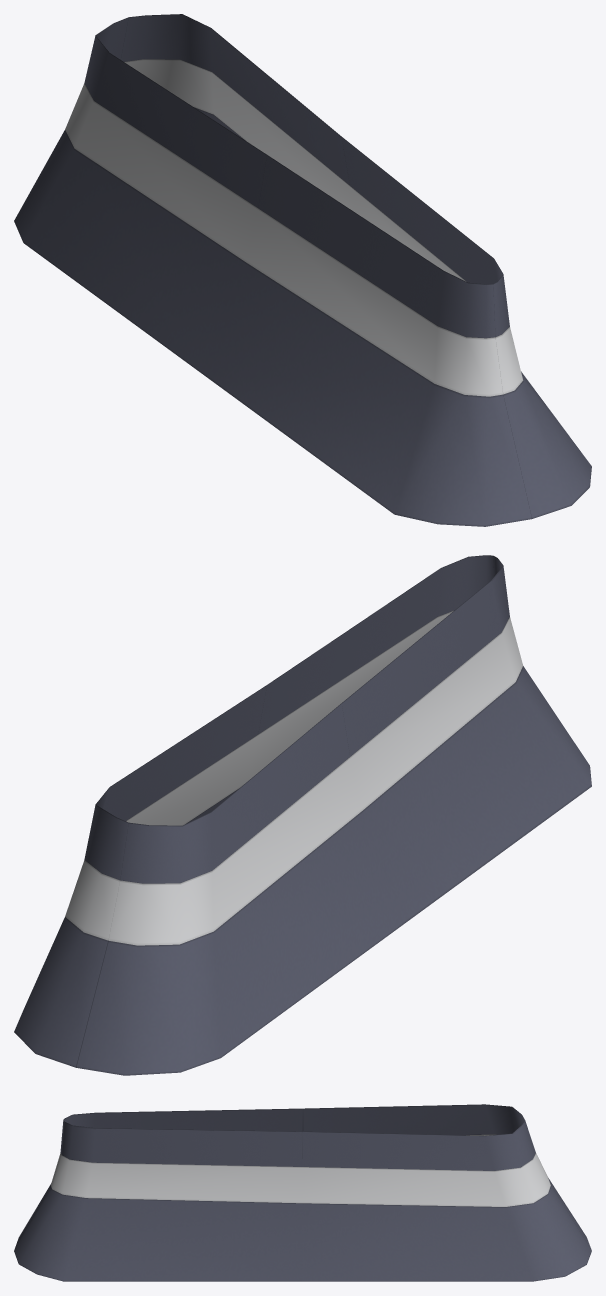
Rendered from Reactor_Support_02.FBX.
The picture shows the model from 3 angles, top to bottom: view 1: azimuth 30°, elevation 25°; view 2: azimuth 150°, elevation 25°; view 3: azimuth 270°, elevation 25°; orthographic projection. The views are drawn at different scales.
Parts seen in each view (by area): view 1: Reactor_Support_02; view 2: Reactor_Support_02; view 3: Reactor_Support_02.
Boxes of the visible parts, x1,y1,x2,y2 form: Reactor_Support_02: [14, 14, 591, 526]; Reactor_Support_02: [14, 555, 591, 1075]; Reactor_Support_02: [14, 1104, 591, 1281].
Bounding box in the file's own units: 1 × 1 × 4.
